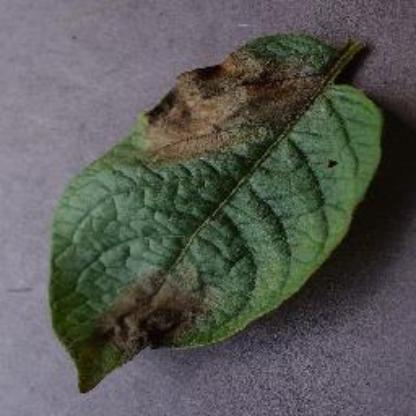Late-Blight: (47, 29, 391, 394)
